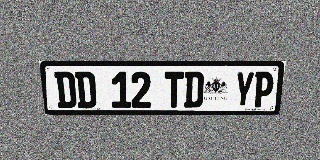1: (111, 72, 131, 108)
2: (131, 72, 151, 108)
D: (54, 72, 77, 108), (75, 72, 97, 108), (184, 72, 204, 108)
P: (252, 72, 275, 107)
T: (164, 72, 184, 108)
Y: (233, 72, 255, 107)
